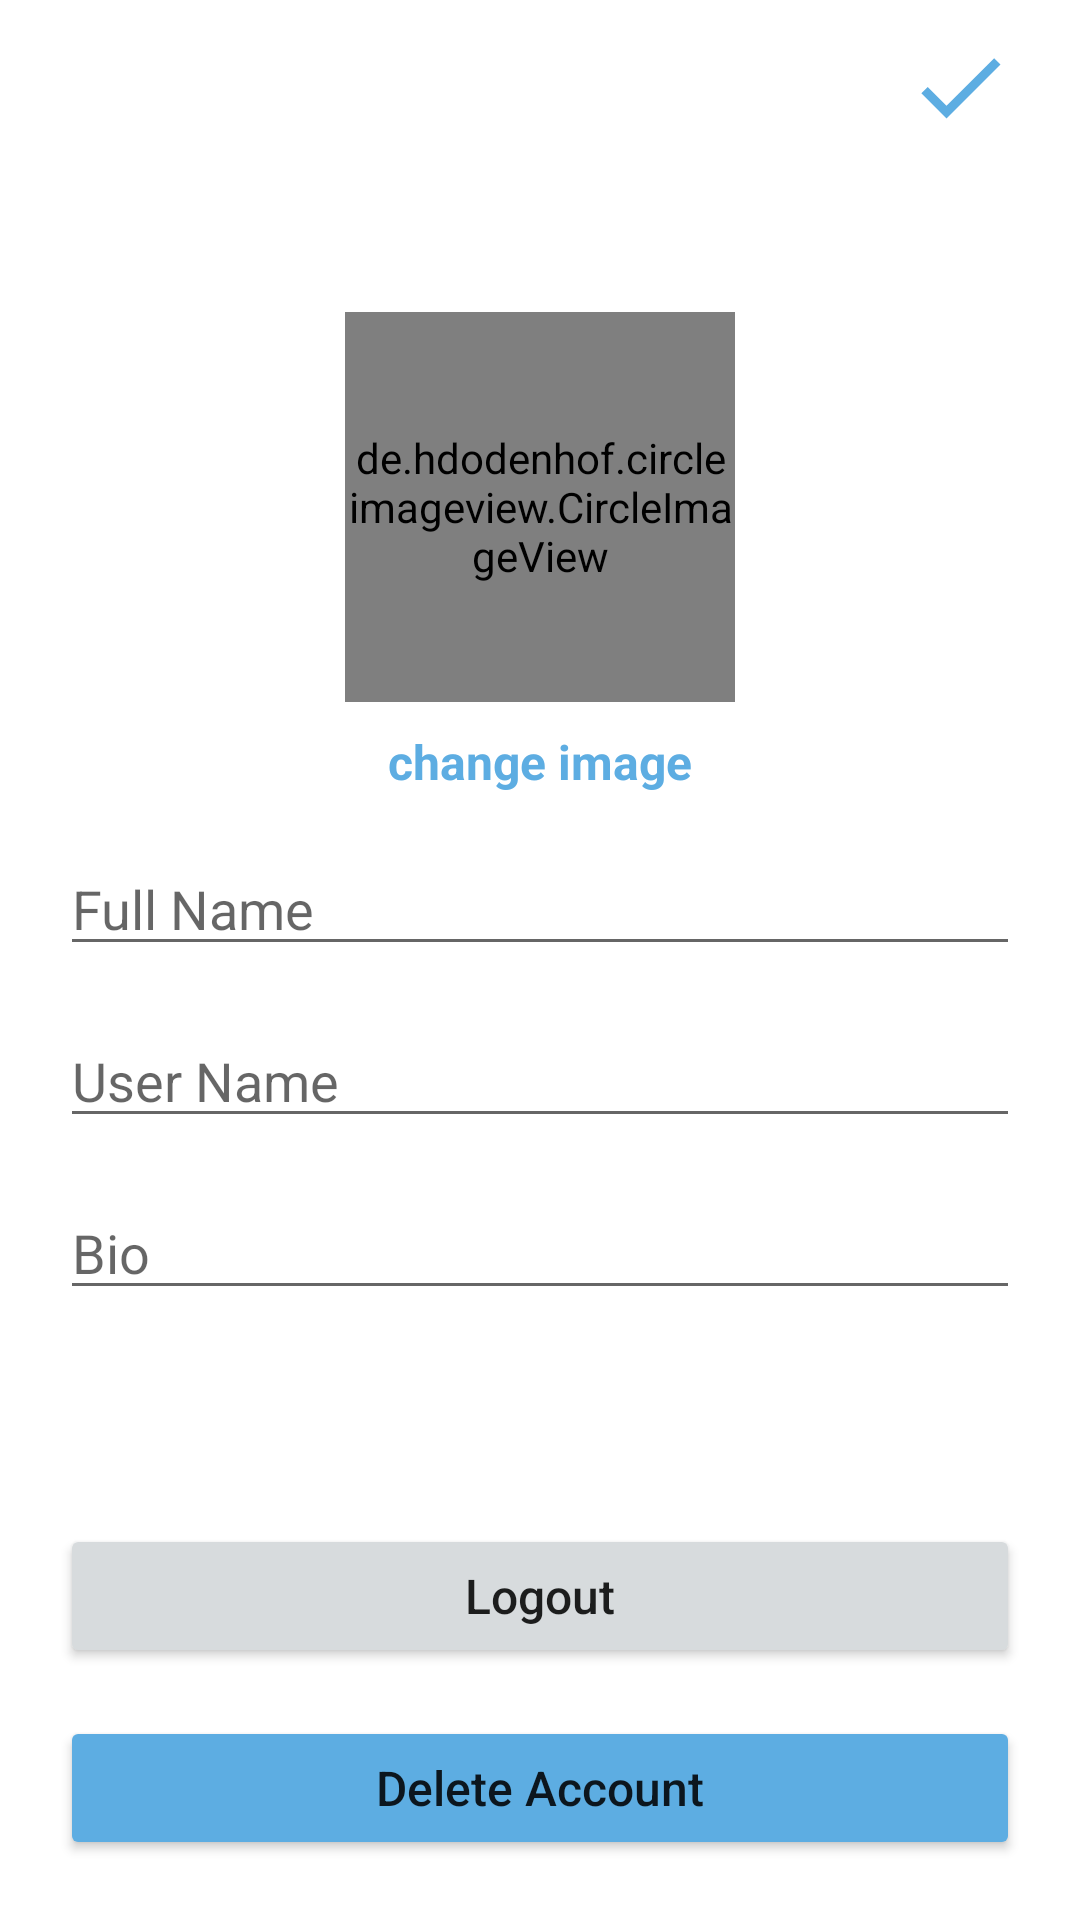

Icon bounding boxes for this 1080 × 1920 phone screenshot, format (x1, y1, x2, y2):
check: (921, 58, 1001, 119)
